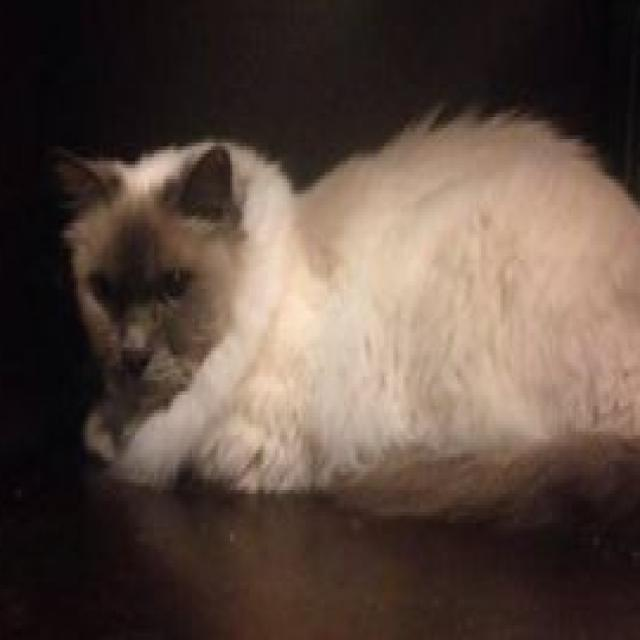Birman: (50, 95, 640, 497)
